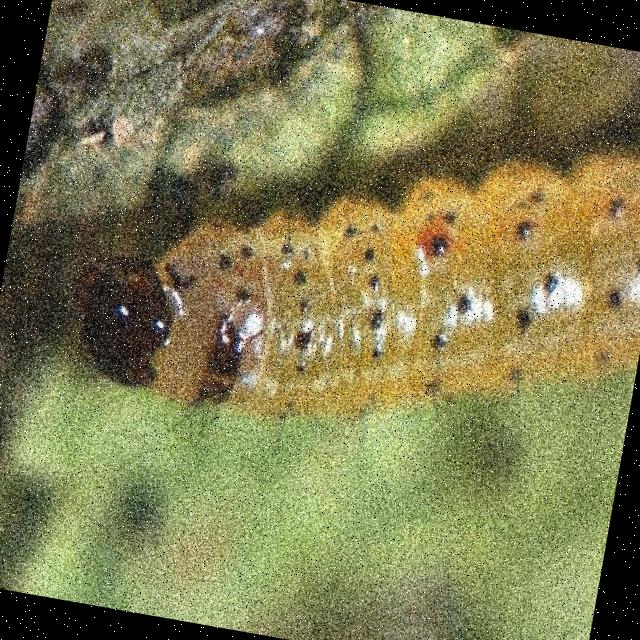worm: (58, 62, 640, 487)
